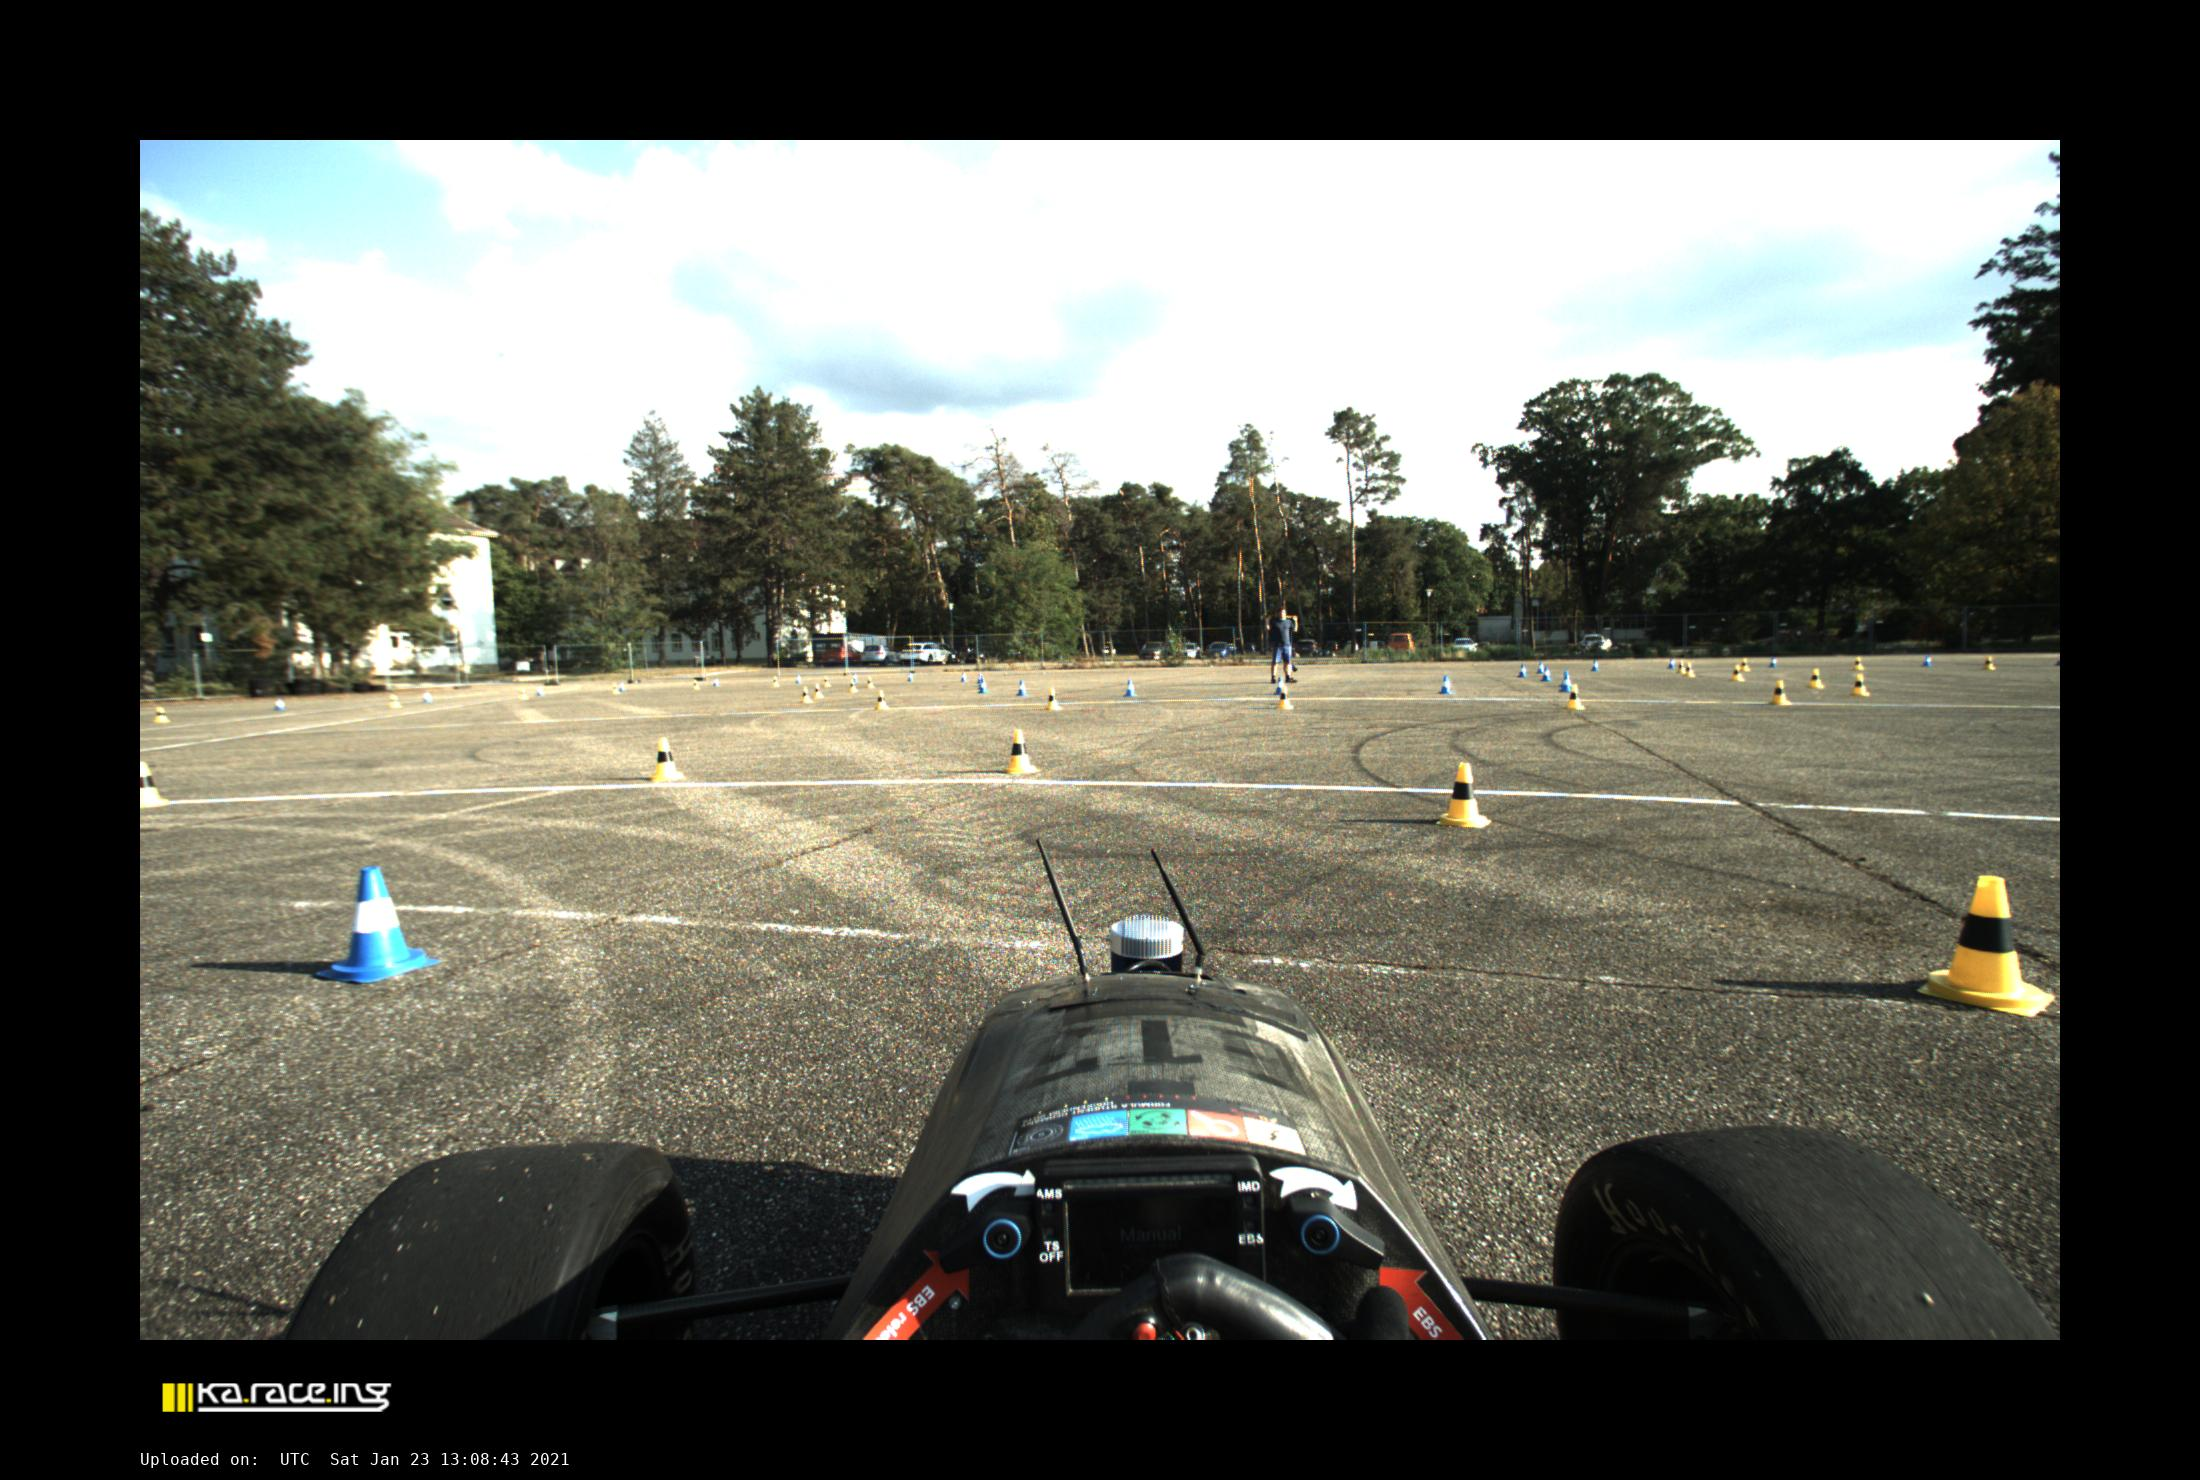blue_cone: (315, 866, 443, 983), (1559, 669, 1572, 692), (1439, 676, 1453, 694), (1125, 679, 1136, 697), (978, 677, 989, 694), (1516, 662, 1528, 677), (1016, 681, 1027, 695), (1541, 667, 1553, 681), (1275, 677, 1283, 695), (1923, 654, 1932, 667), (423, 690, 433, 704), (276, 697, 284, 710), (1591, 661, 1600, 671), (1769, 656, 1777, 667), (1536, 661, 1544, 672), (960, 672, 968, 682), (794, 674, 803, 684), (535, 685, 543, 695), (1668, 657, 1675, 669), (907, 671, 913, 682), (852, 674, 859, 682), (619, 682, 626, 690), (714, 677, 718, 685)
yellow_cone: (1916, 875, 2056, 1017), (1440, 761, 1491, 828), (651, 737, 685, 781), (1004, 728, 1037, 773), (140, 761, 168, 808), (1772, 679, 1790, 705), (1567, 685, 1586, 710), (1853, 672, 1870, 695), (1809, 667, 1825, 689), (1045, 689, 1062, 710), (1277, 689, 1293, 709), (154, 705, 170, 723), (875, 690, 889, 709), (1852, 656, 1866, 671), (1733, 666, 1746, 682), (799, 687, 813, 704), (1984, 656, 1997, 671), (1685, 662, 1696, 677), (390, 694, 401, 709), (813, 682, 823, 699), (1741, 657, 1751, 671), (847, 681, 857, 694), (865, 676, 874, 689), (823, 676, 831, 689), (694, 676, 700, 690), (519, 689, 529, 699), (771, 676, 780, 687), (1678, 661, 1685, 672), (613, 682, 619, 694)
